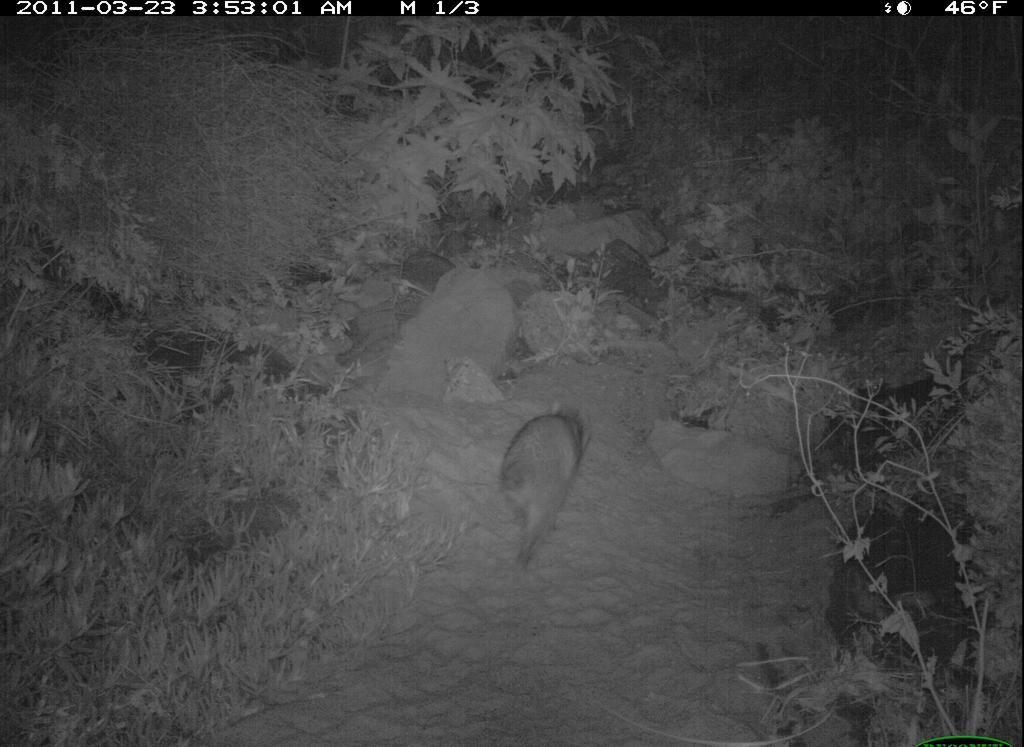raccoon: (498, 400, 596, 574)
